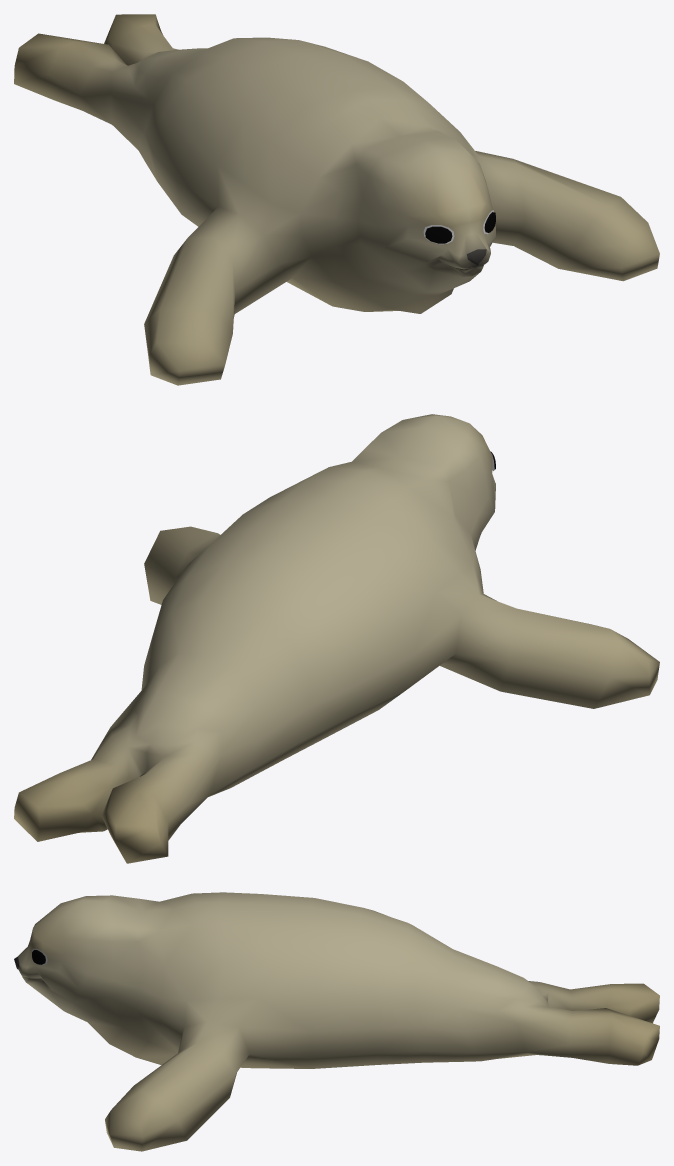
3 views of the same model, one above another, from view 1: azimuth 30°, elevation 25°; view 2: azimuth 150°, elevation 25°; view 3: azimuth 270°, elevation 25° (orthographic). The views are drawn at different scales.
Parts seen in each view (by area): view 1: base.080; view 2: base.080; view 3: base.080.
Boxes of the visible parts, x1,y1,x2,y2 form: base.080: (14, 14, 659, 385); base.080: (14, 414, 659, 863); base.080: (14, 892, 659, 1151).
Bounding box in the file's own units: 0.3586 × 0.1314 × 0.5.
